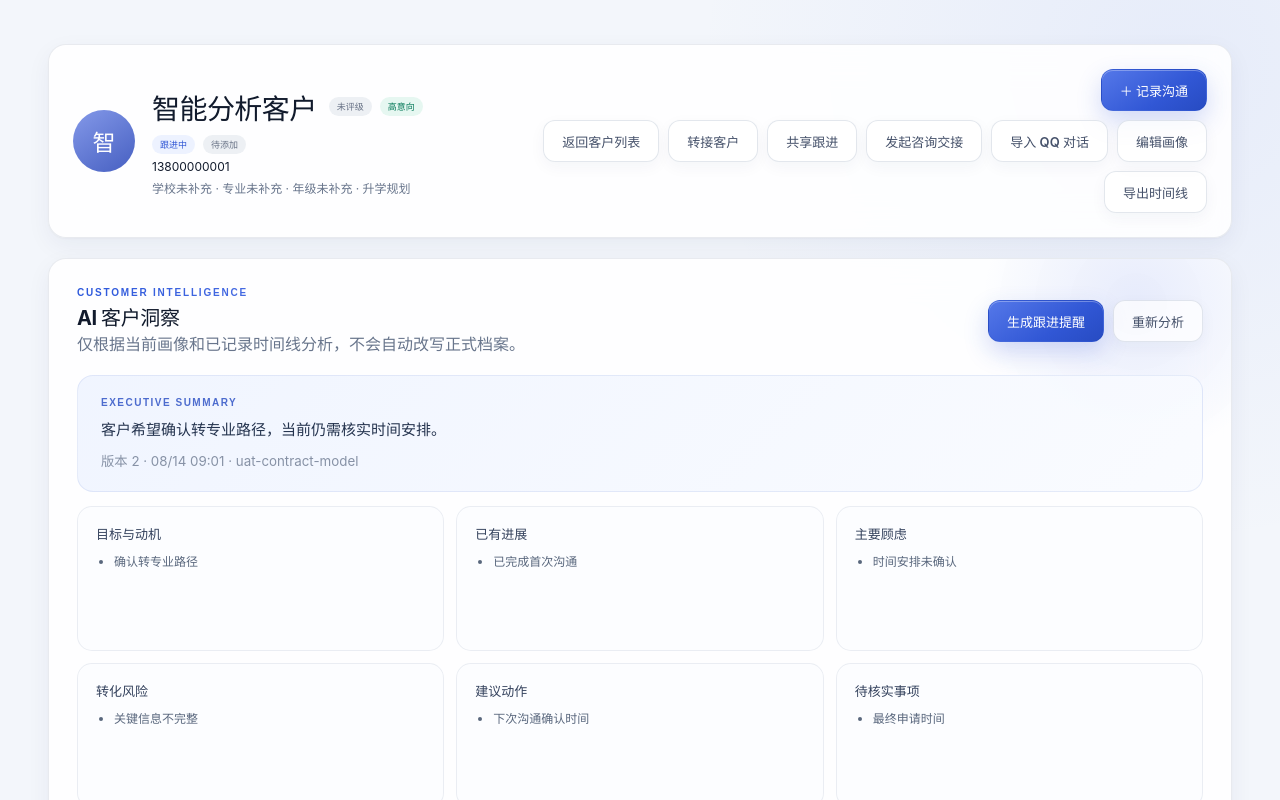
large mocked workflow views › creates an editable reminder from versioned intelligence and queues explicit reanalysis
The image size is (1280, 800).
Expected: the element with test id "customer-intelligence" shows "AI 客户洞察", [77,306,180,330]
Click the button with test id "create-intelligence-reminder" at coordinates (1046, 321), box [988,300,1104,342]
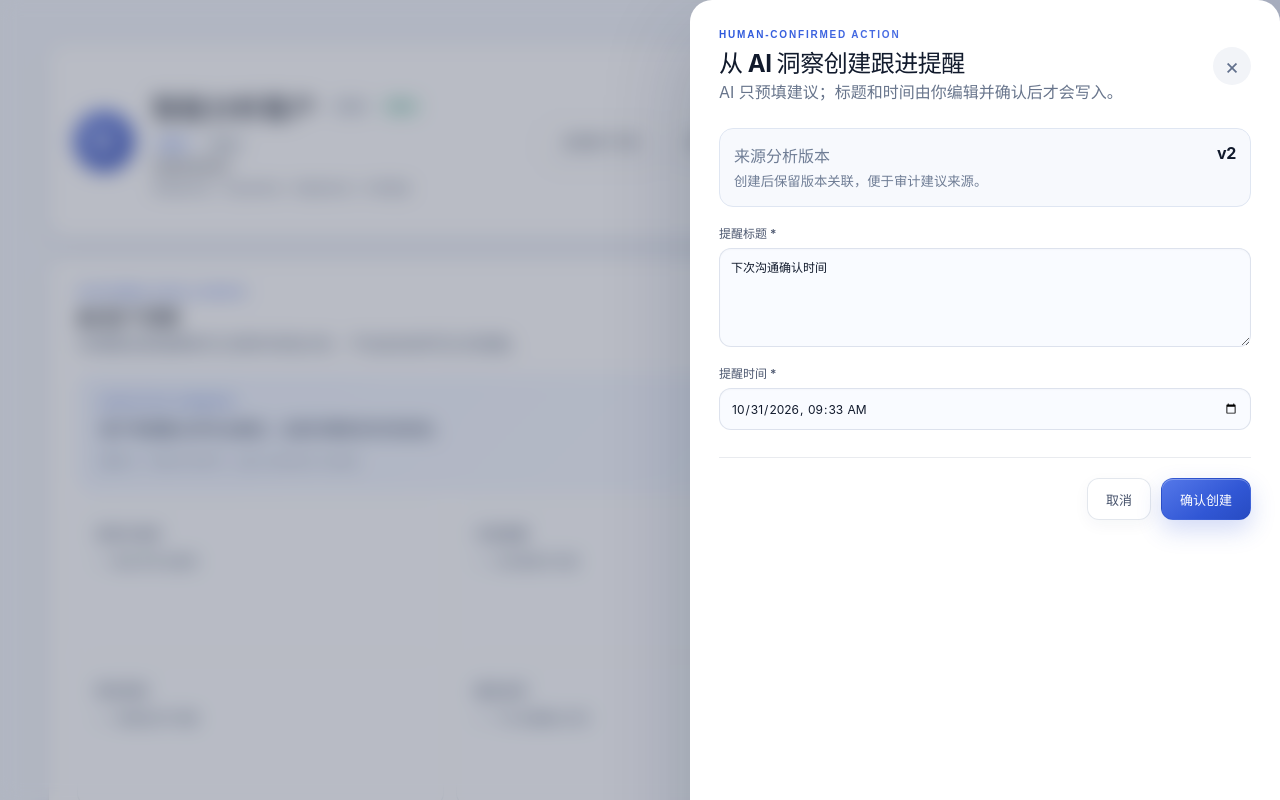
Expected: the text box with test id "intelligence-reminder-title" holds "下次沟通确认时间"
Replace the text in the text box with test id "intelligence-reminder-title" with "人工确认后的跟进动作" at coordinates (985, 298), box [719,248,1251,347]
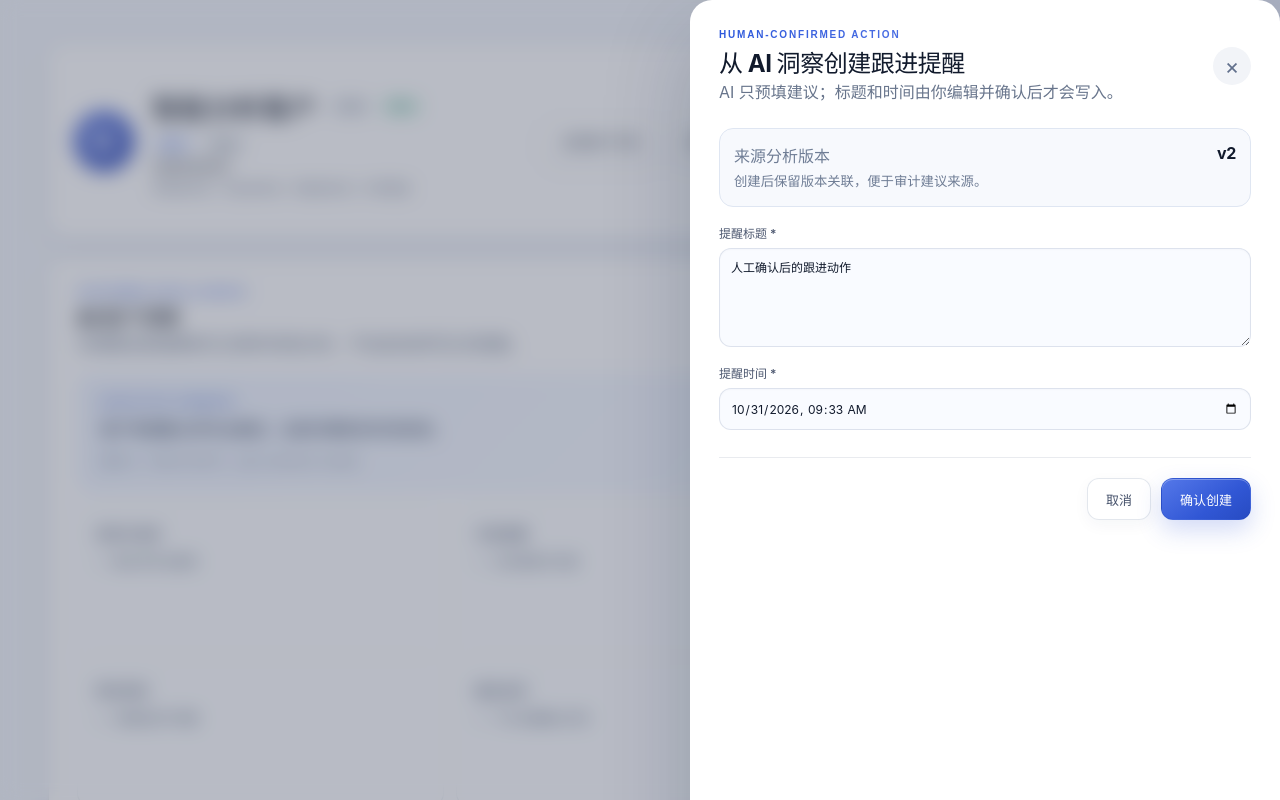
Replace the text in the field with test id "intelligence-reminder-at" with "2026-09-20T09:00" at coordinates (985, 409), box [719,388,1251,430]
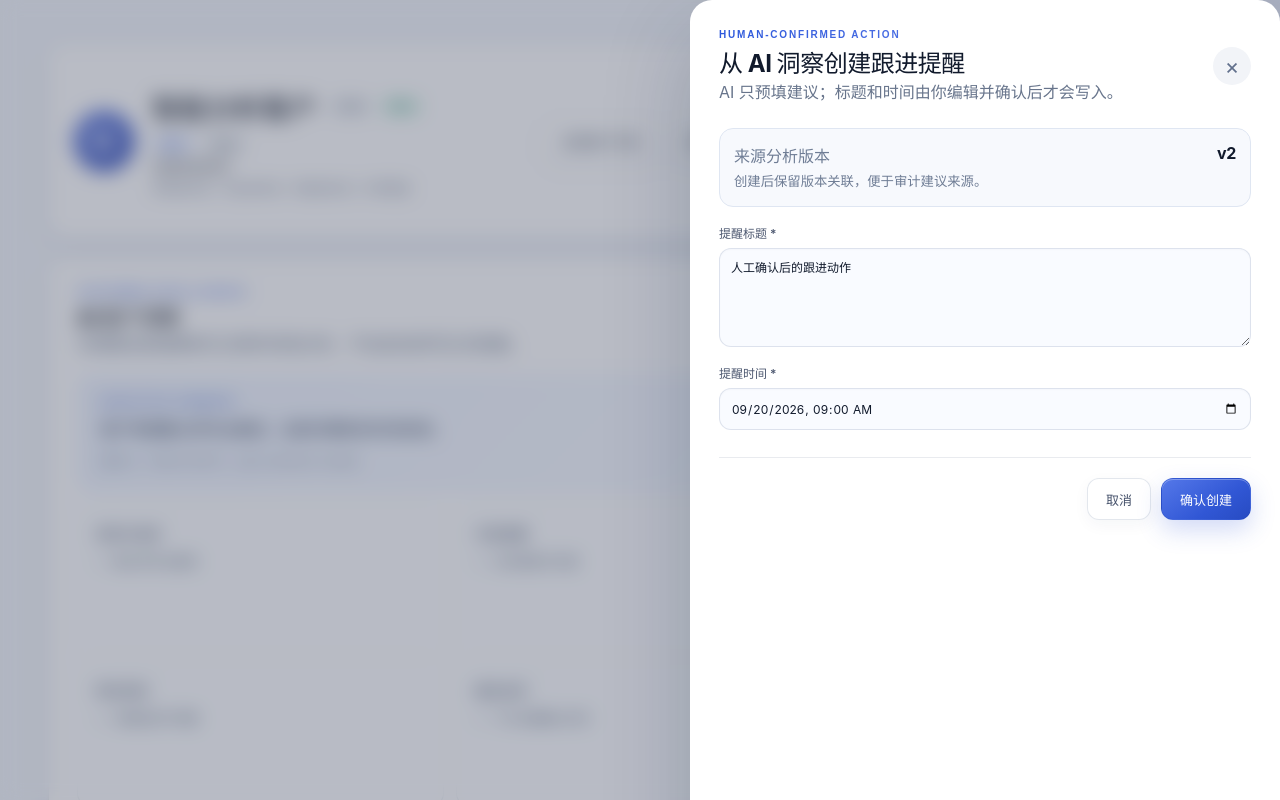
Submit the form, box [719,128,1251,520]
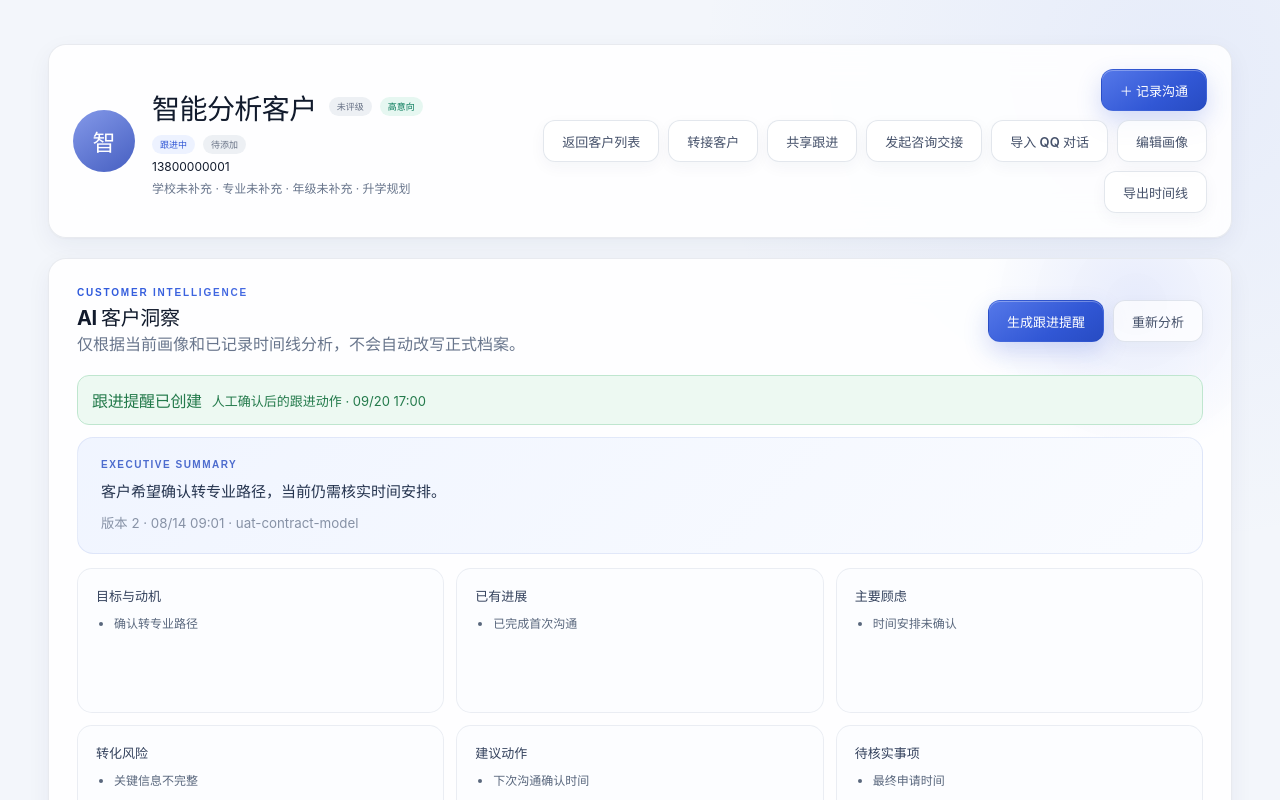
Expected: the element with test id "intelligence-reminder-created" shows "跟进提醒已创建", [92,391,202,411]
Click the button with test id "reanalyze-customer" at coordinates (1158, 321), box [1113,300,1203,342]
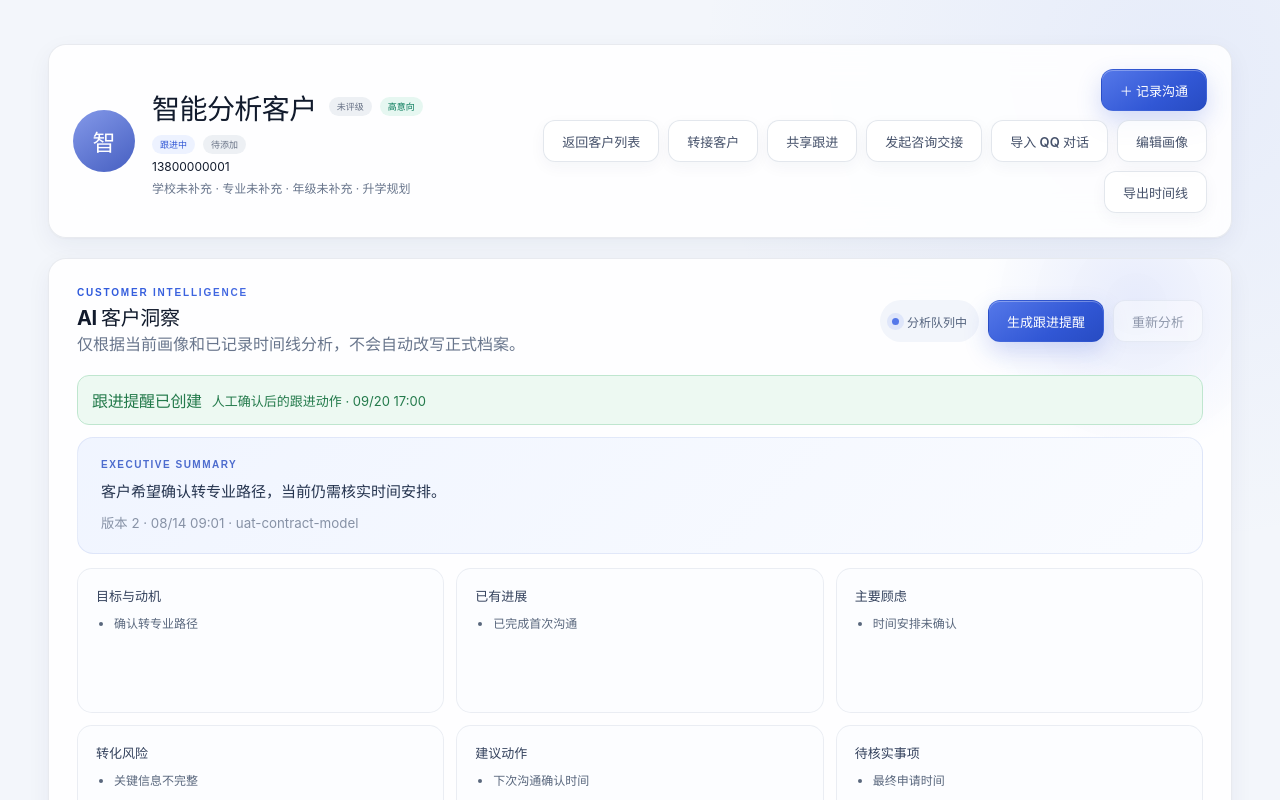
Expected: the text "分析队列中" is shown, [880,300,979,342]
